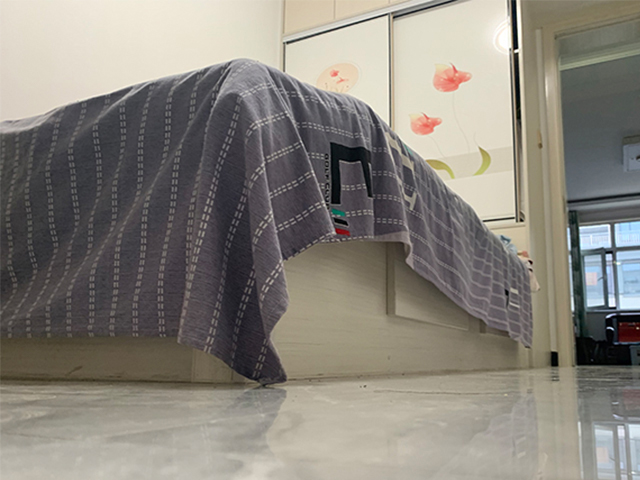bed: (1, 58, 540, 386)
